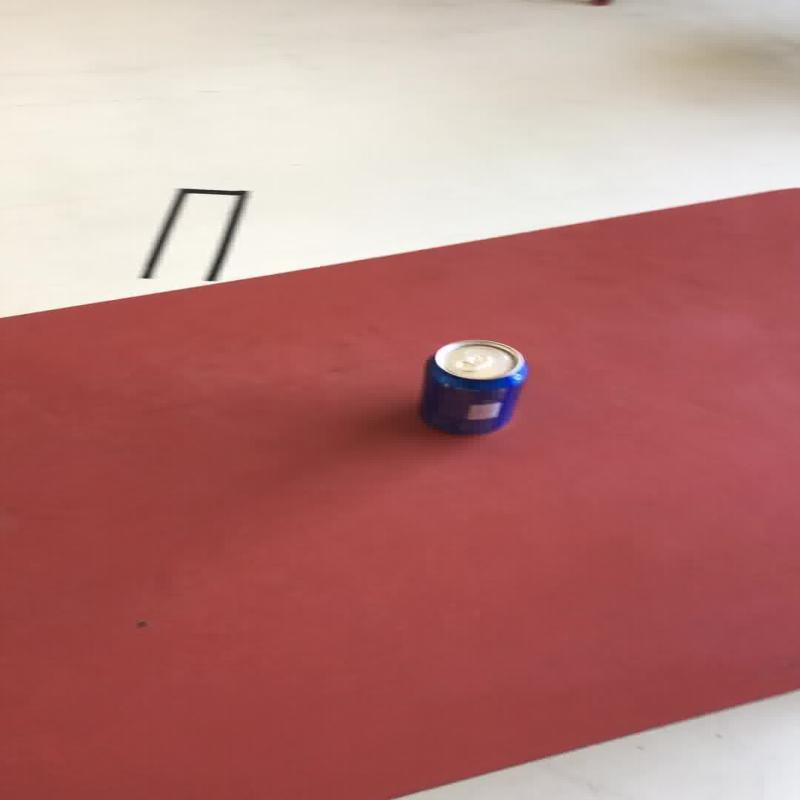tonic: (417, 338, 528, 434)
